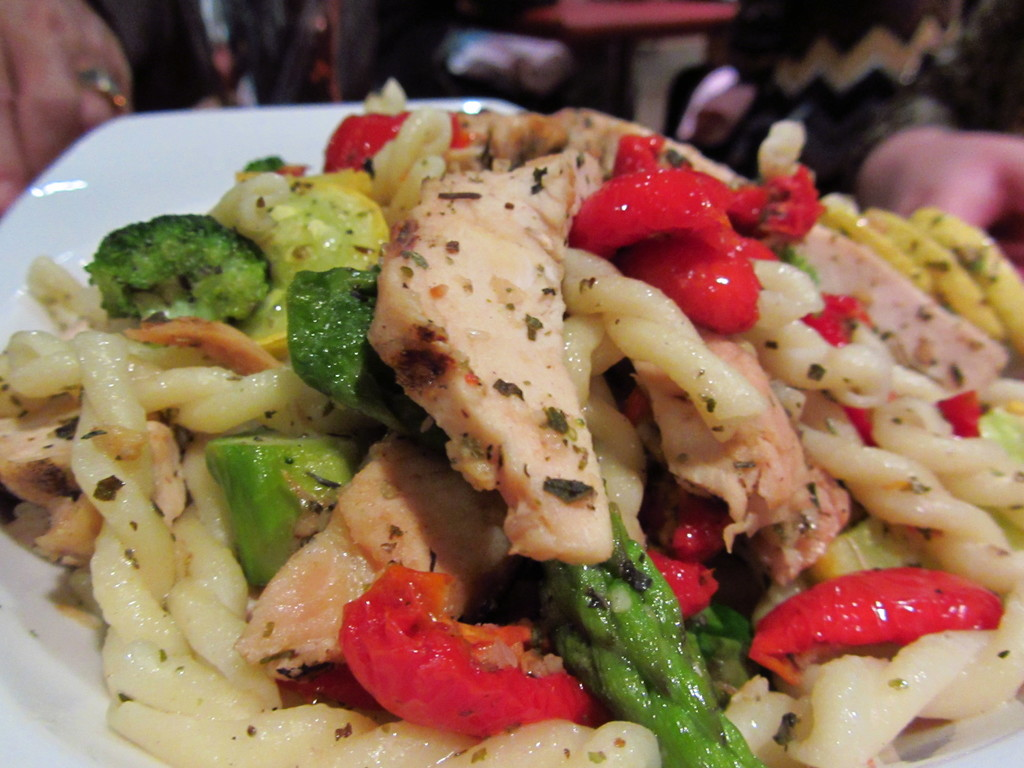person: (0, 0, 588, 221)
